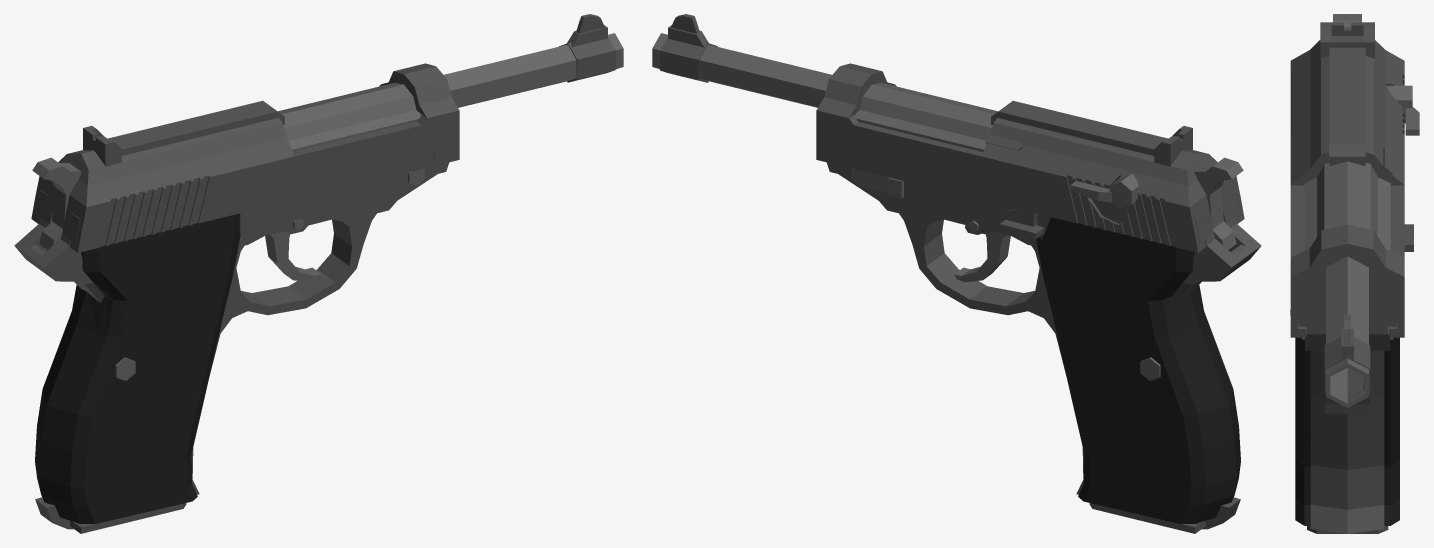
The model's file is Walter.fbx.
3 views of the same model, side by side, from view 1: azimuth 30°, elevation 25°; view 2: azimuth 150°, elevation 25°; view 3: azimuth 270°, elevation 25° (orthographic). The views are drawn at different scales.
Parts seen in each view (by area): view 1: Walter Base, Walter Ramp, Walter Hammer, Walter Mag; view 2: Walter Base, Walter Ramp, Walter Hammer, Walter Mag; view 3: Walter Base, Walter Ramp, Walter Hammer, Walter Mag.
Boxes of the visible parts, <box> form: Walter Base: <box>14,14,623,524</box>; Walter Ramp: <box>31,63,459,252</box>; Walter Hammer: <box>32,157,81,251</box>; Walter Mag: <box>35,497,186,533</box>; Walter Base: <box>652,14,1261,524</box>; Walter Ramp: <box>816,63,1244,252</box>; Walter Hammer: <box>1194,157,1243,251</box>; Walter Mag: <box>1089,497,1240,533</box>; Walter Base: <box>1295,161,1413,533</box>; Walter Ramp: <box>1290,22,1419,337</box>; Walter Hammer: <box>1333,14,1361,27</box>; Walter Mag: <box>1307,526,1388,533</box>.
Size of the model in its own units: 656 by 414 by 102.
